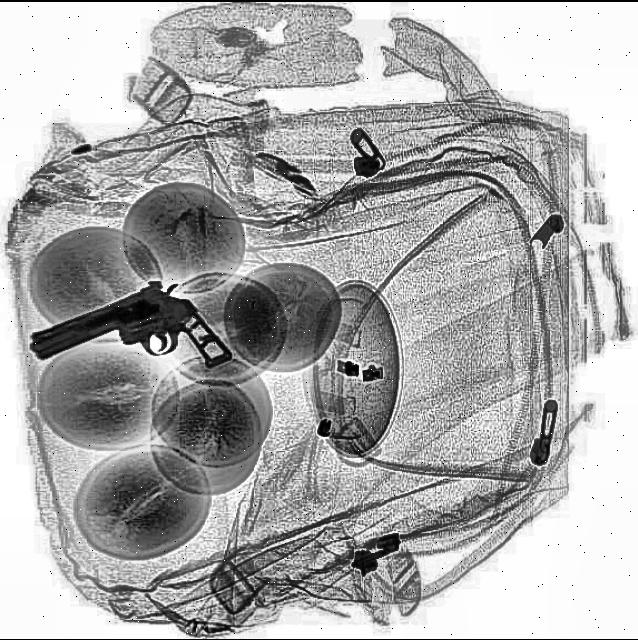Gun: (25, 258, 230, 430)
